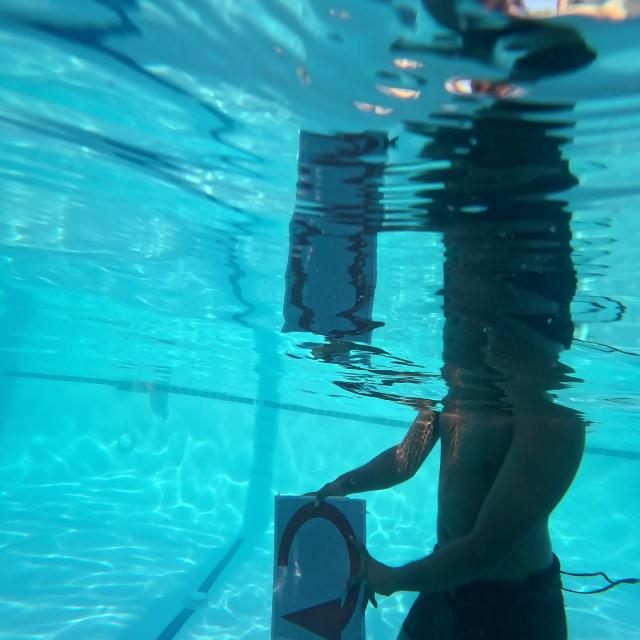red_side: (276, 492, 368, 640)
